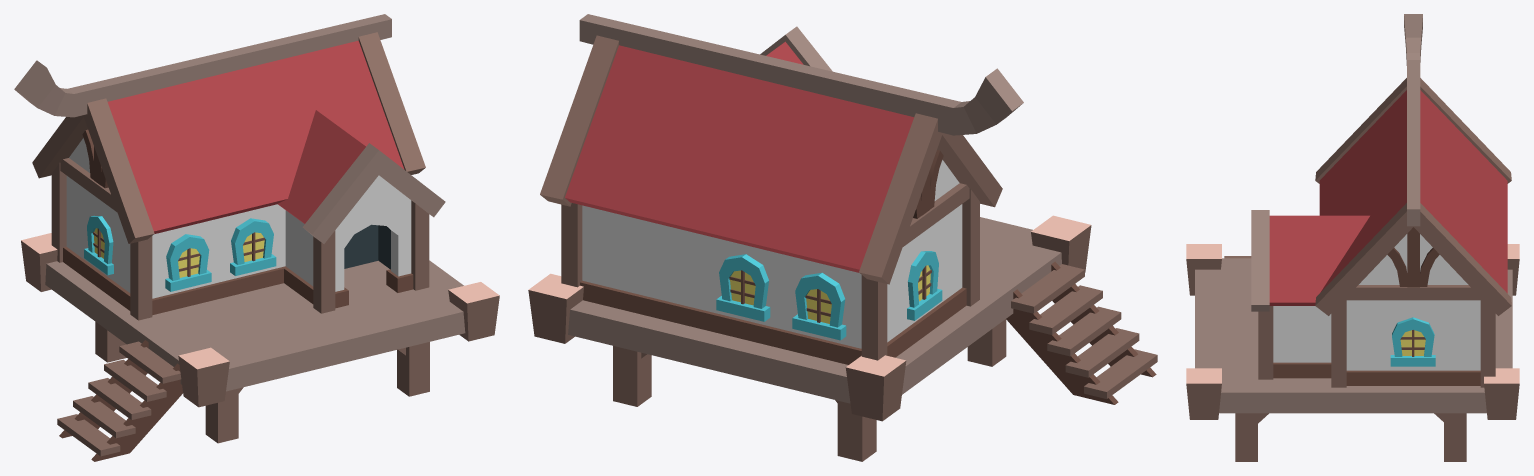
The model's file is building_017.fbx.
The picture shows the model from 3 angles, left to right: view 1: azimuth 30°, elevation 25°; view 2: azimuth 150°, elevation 25°; view 3: azimuth 270°, elevation 25°; orthographic projection. The views are drawn at different scales.
Visible parts, largest first — view 1: building.017; view 2: building.017; view 3: building.017.
Part boxes in pixels (x1=…): building.017: x1=14, y1=14, x2=499, y2=461; building.017: x1=528, y1=14, x2=1157, y2=461; building.017: x1=1186, y1=14, x2=1519, y2=461.
Size of the model in its own units: 1462 by 1182 by 1143.
1 material, 1 textured.
